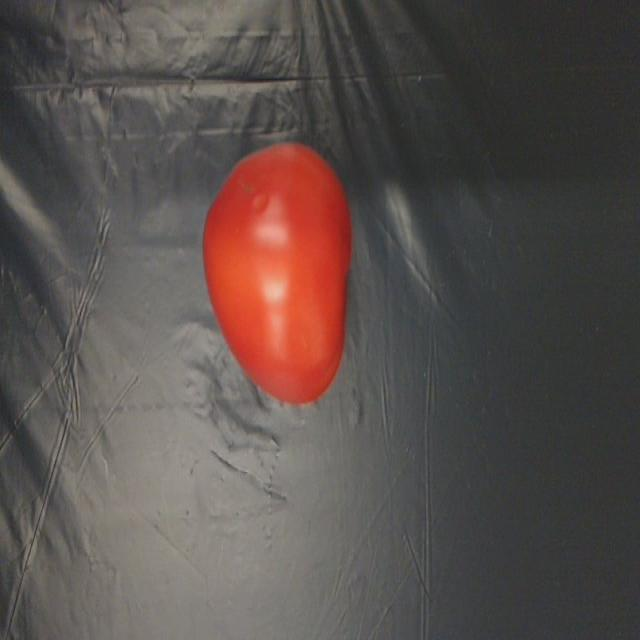kirmizi: (203, 144, 361, 410)
